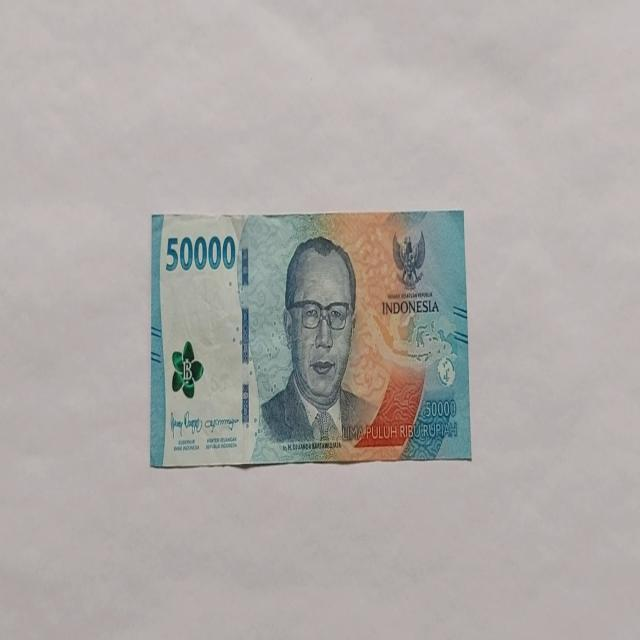lima puluh ribu rupiah: (149, 208, 471, 468), (252, 234, 380, 458)
